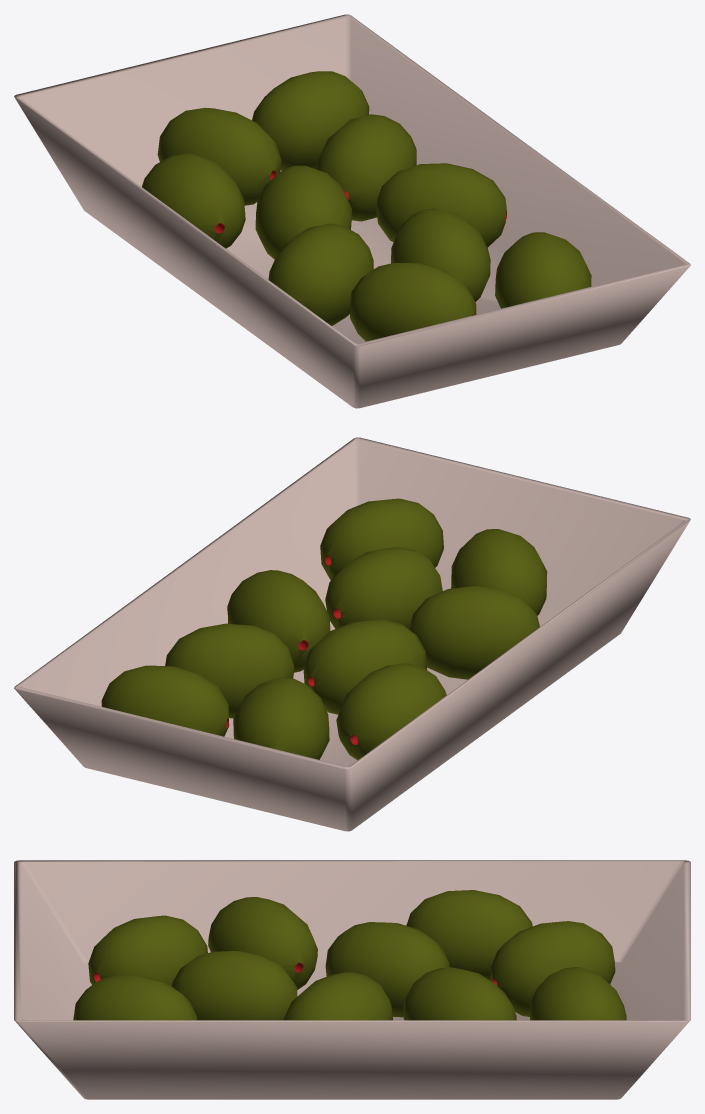
File: aceituna.fbx
3 renders of one model, top to bottom at view 1: azimuth 30°, elevation 25°; view 2: azimuth 150°, elevation 25°; view 3: azimuth 270°, elevation 25°, orthographic.
Parts seen in each view (by area): view 1: Plato, aceitunas; view 2: Plato, aceitunas; view 3: Plato, aceitunas.
Boxes of the visible parts, box(x1,y1,x2,y2) form: Plato: box(14, 14, 690, 408); aceitunas: box(142, 71, 591, 341); Plato: box(14, 437, 690, 831); aceitunas: box(101, 498, 547, 760); Plato: box(14, 860, 690, 1099); aceitunas: box(73, 890, 626, 1020).
Bounding box in the file's own units: 28.1 × 7.68 × 49.77.
